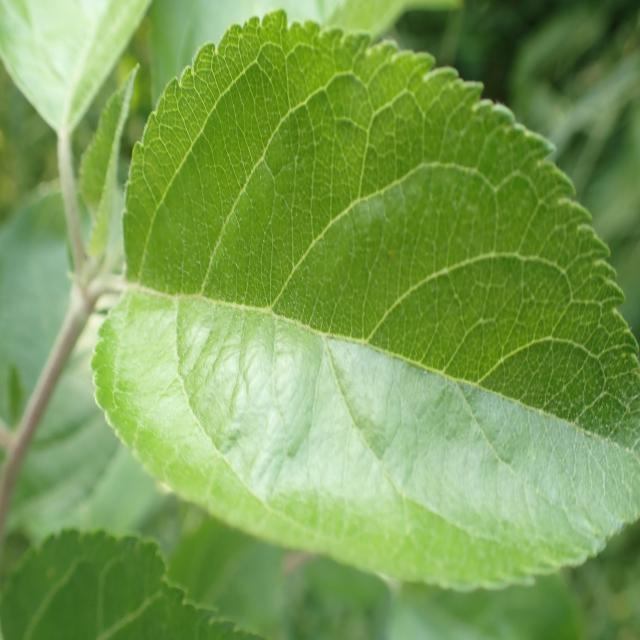healthy: (90, 6, 640, 592), (0, 526, 268, 640)
